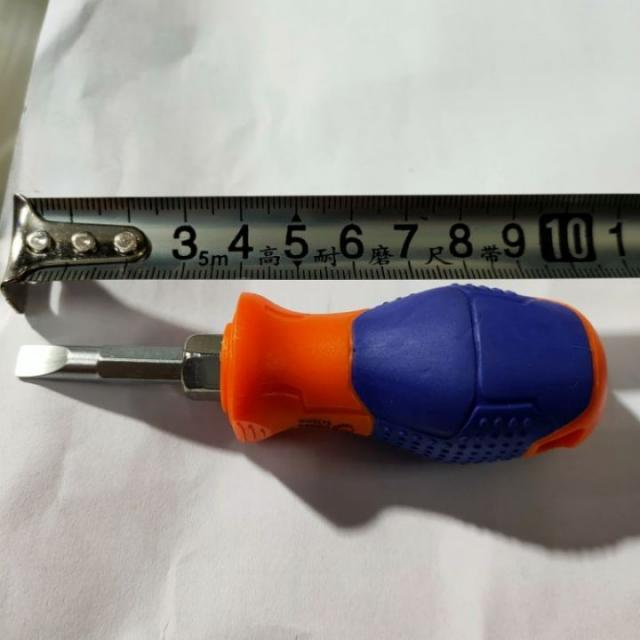screwdriver: (15, 280, 612, 460)
